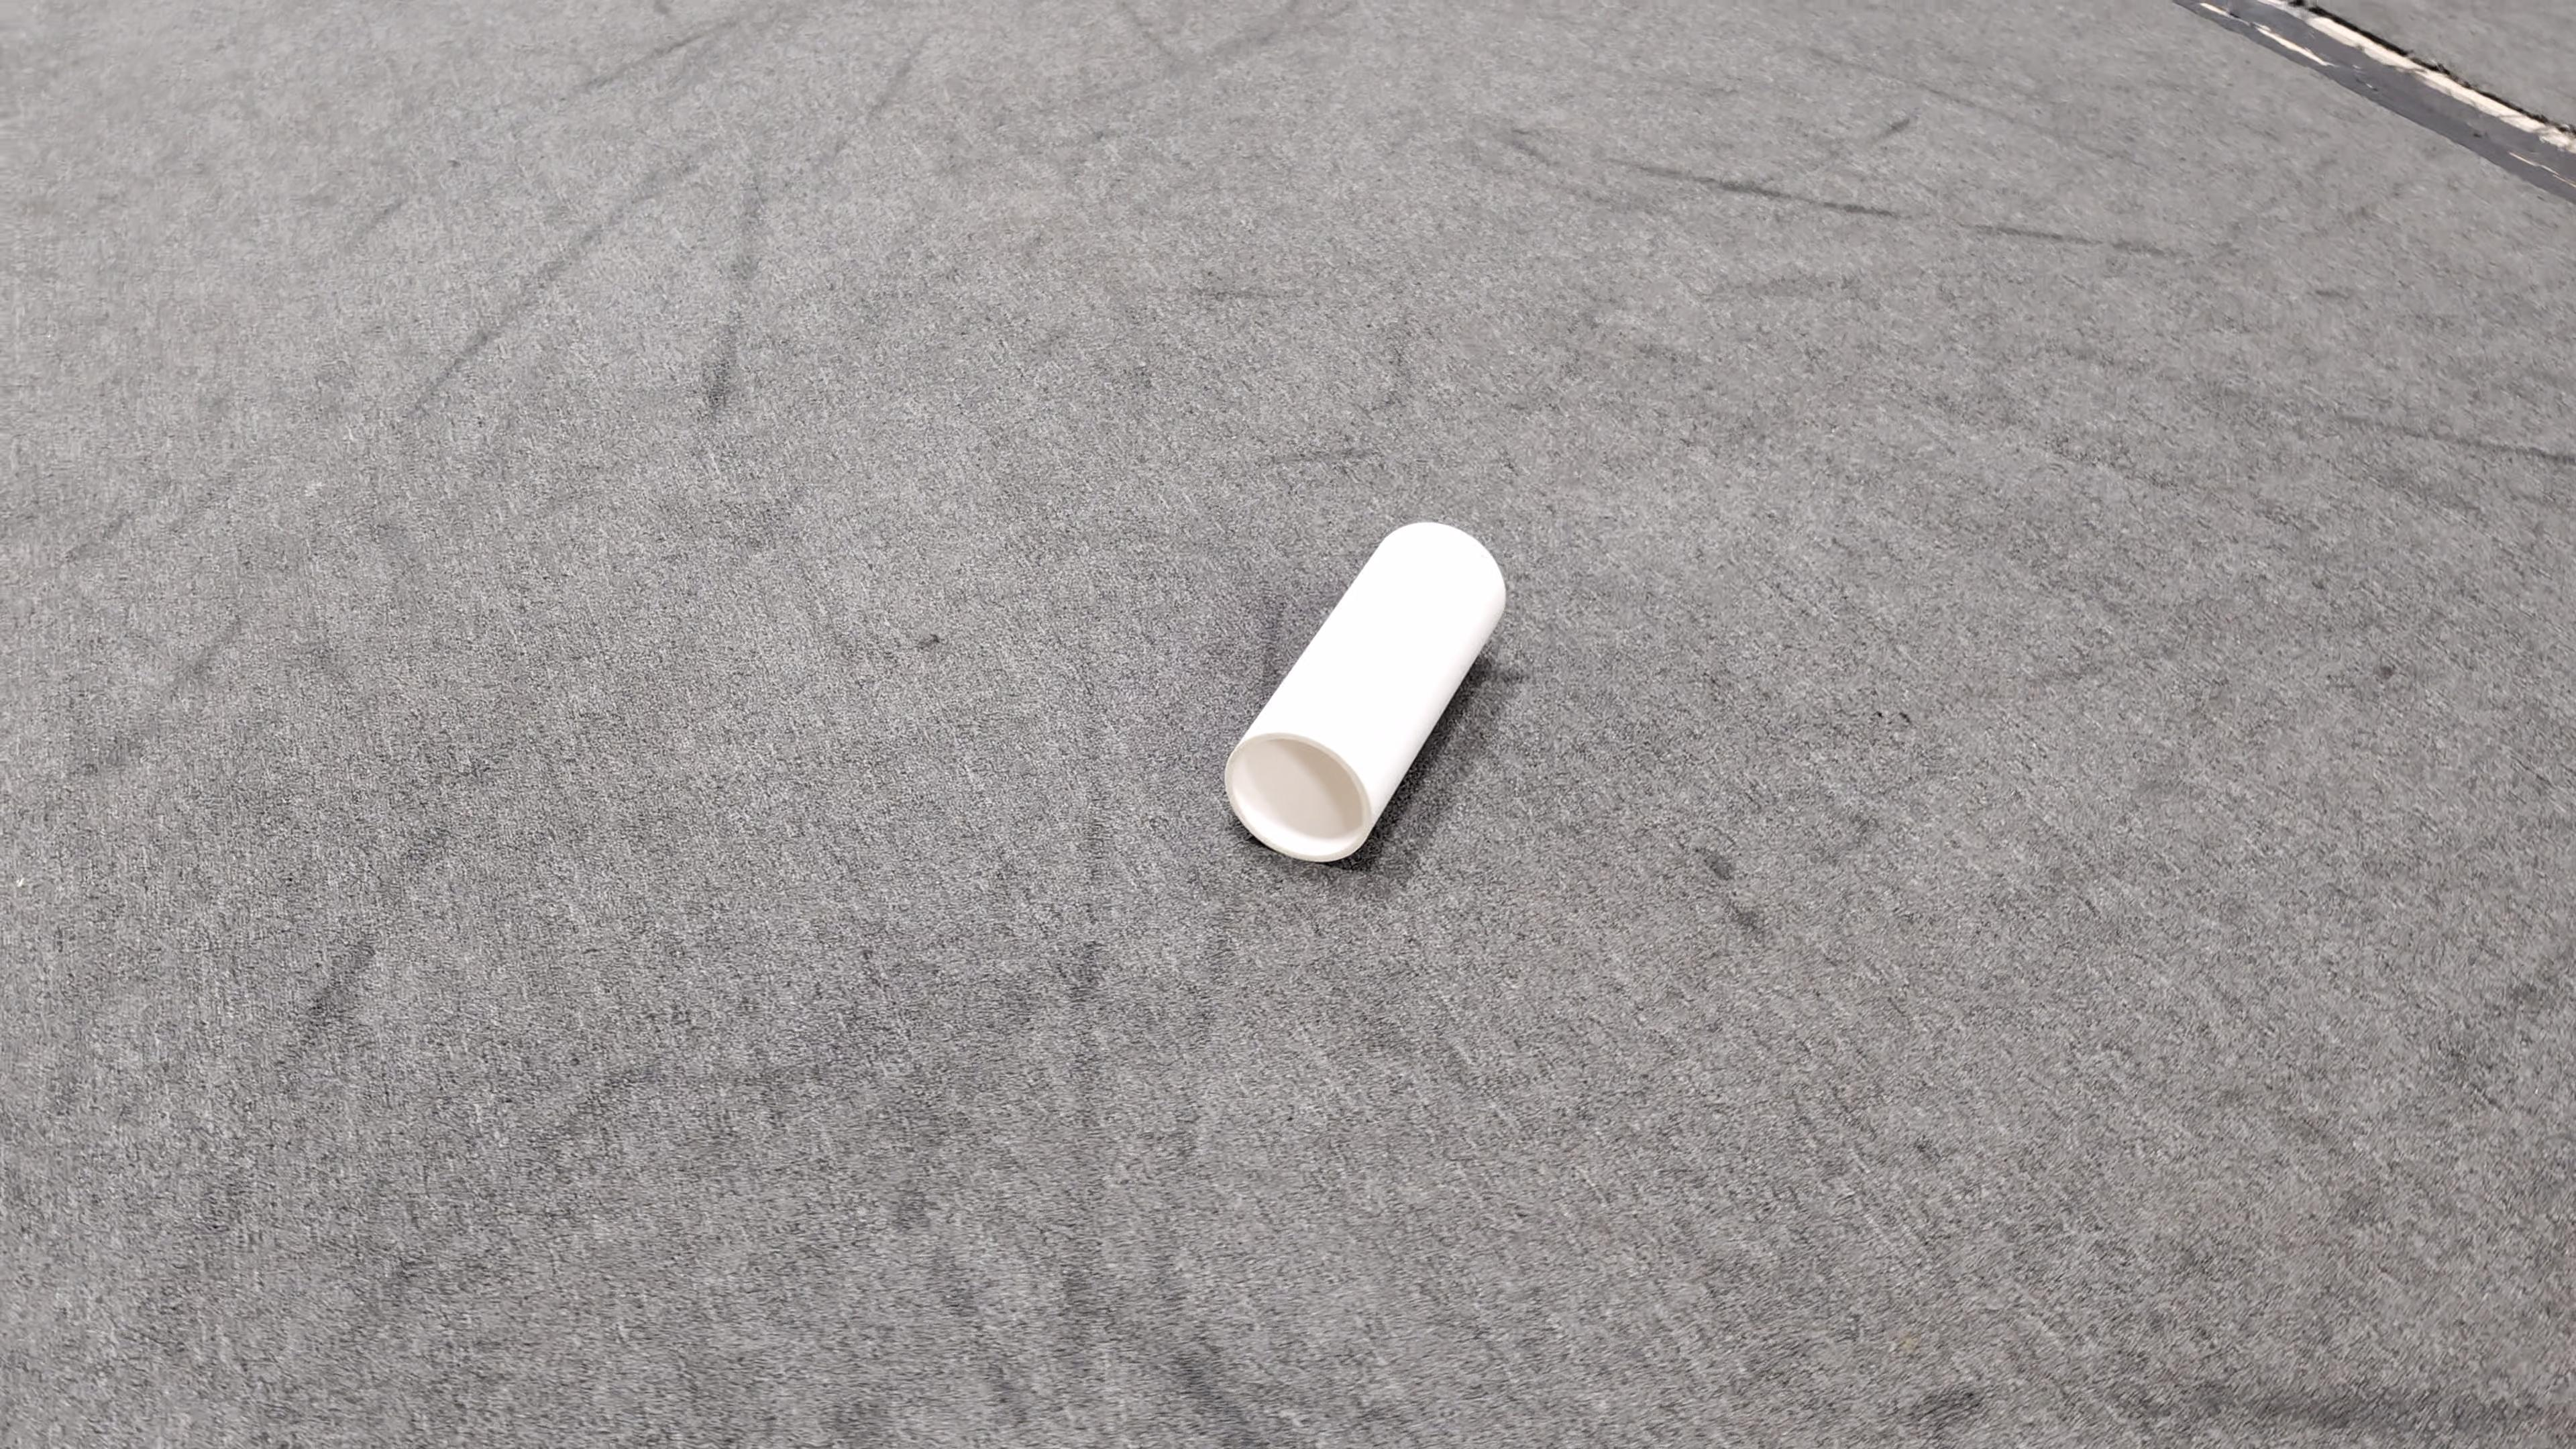coral: (1224, 522, 1507, 863)
